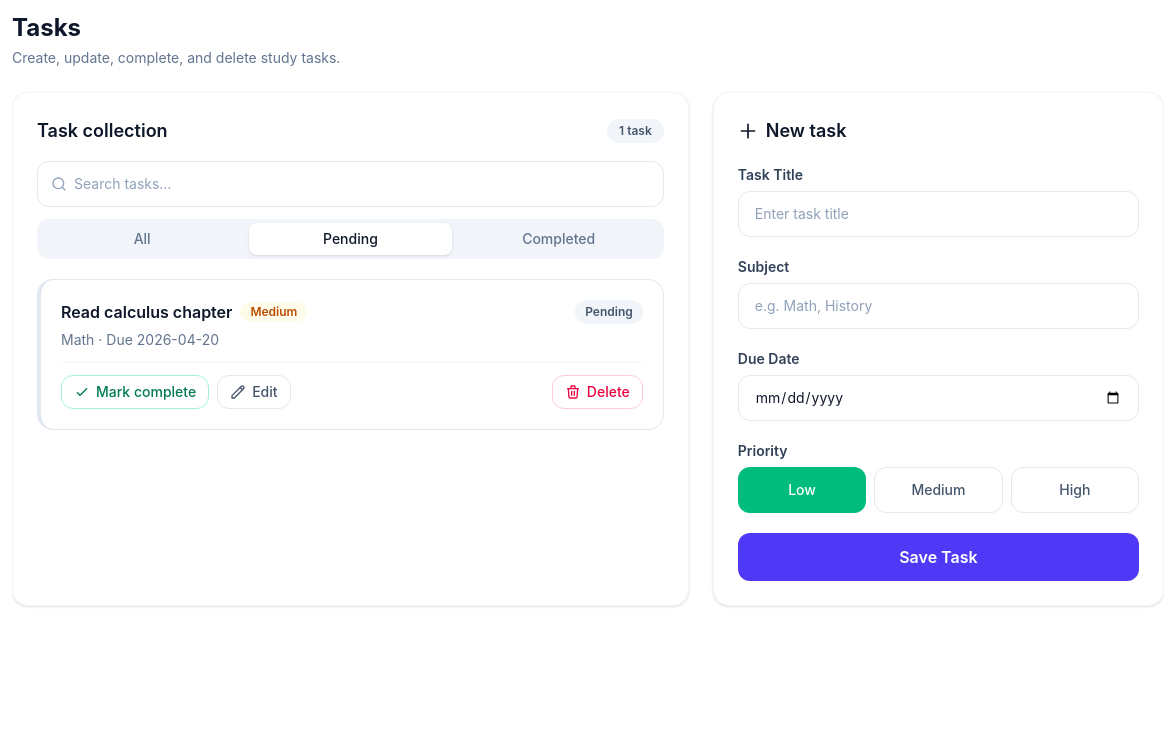
AddTaskPage › deletes a task after confirmation
Click the button "Delete": (597, 392) x1=552 y1=375 x2=643 y2=409
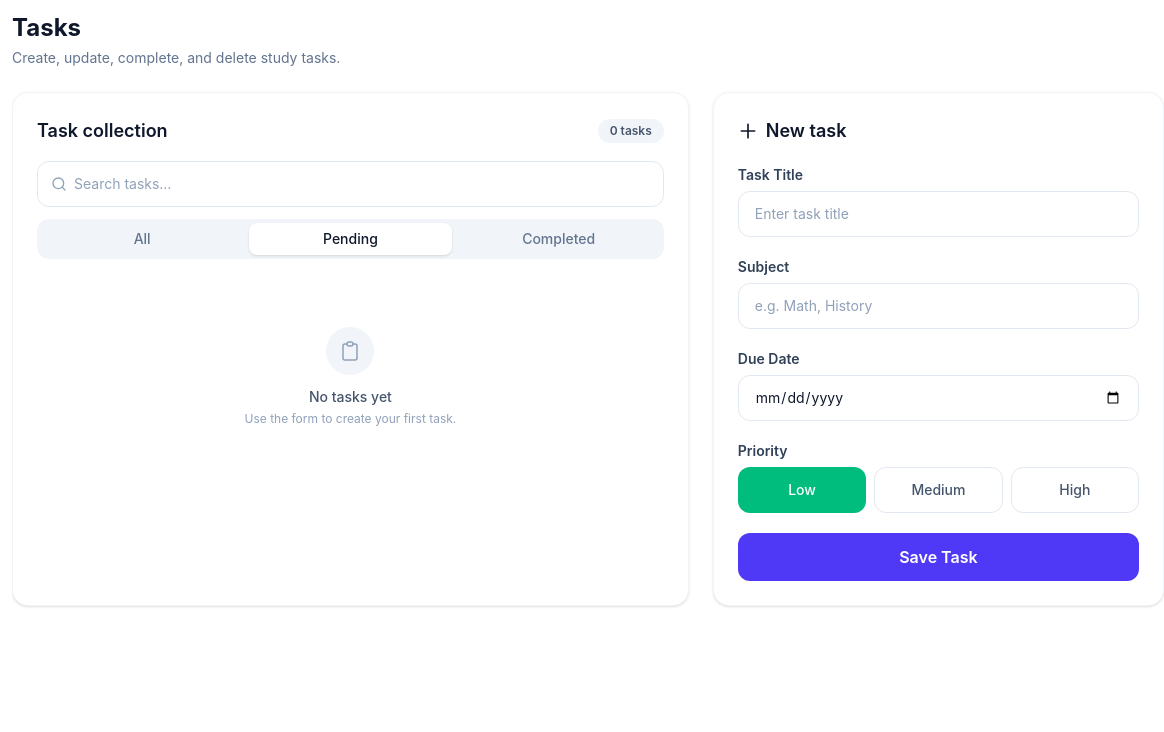
Expected: the heading "Read calculus chapter" is gone
